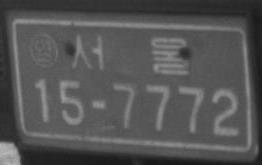-: (88, 99, 111, 111)
1: (32, 77, 55, 123)
2: (211, 87, 241, 137)
5: (59, 78, 85, 126)
7: (177, 84, 205, 135), (144, 82, 171, 131), (112, 81, 135, 129)
서울_D: (69, 32, 191, 78)
영: (27, 30, 60, 70)
